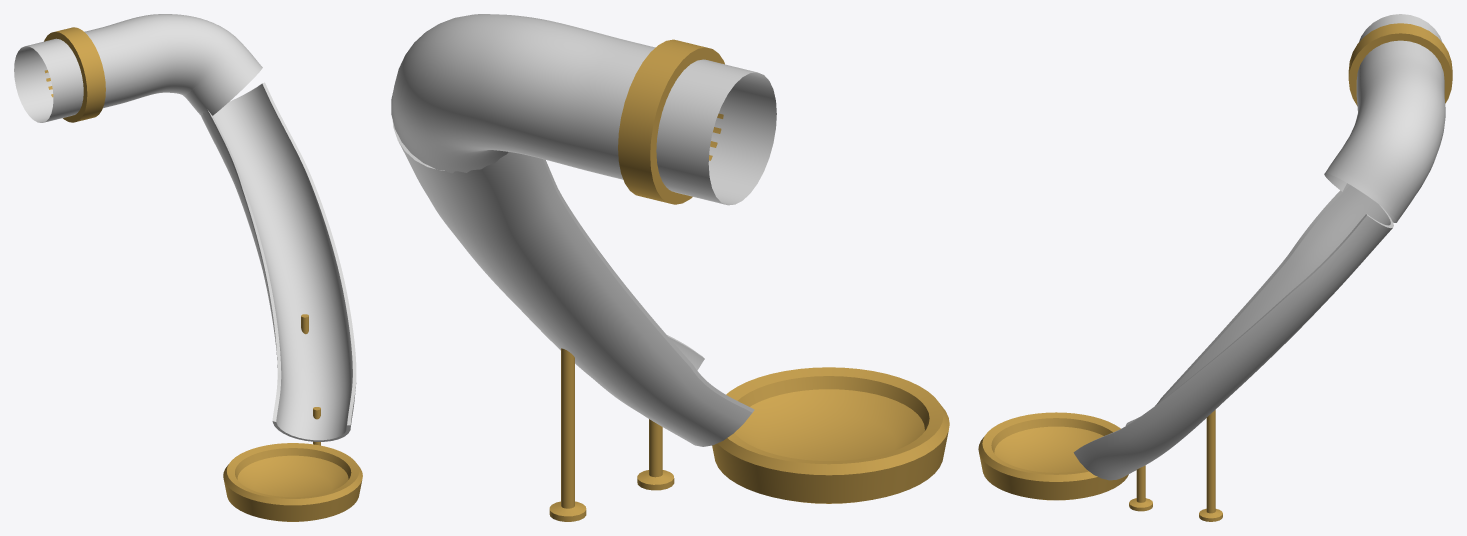
Rendered from bingo-chute.glb.
The picture shows the model from 3 angles, left to right: view 1: azimuth 30°, elevation 25°; view 2: azimuth 150°, elevation 25°; view 3: azimuth 270°, elevation 25°; orthographic projection. The views are drawn at different scales.
Parts seen in each view (by area): view 1: ExitChute; view 2: ExitChute; view 3: ExitChute.
Boxes of the visible parts, <box> form: ExitChute: <box>14,14,362,521</box>; ExitChute: <box>391,14,949,521</box>; ExitChute: <box>978,14,1452,521</box>.
Bounding box in the file's own units: 0.2912 × 0.452 × 0.475.
